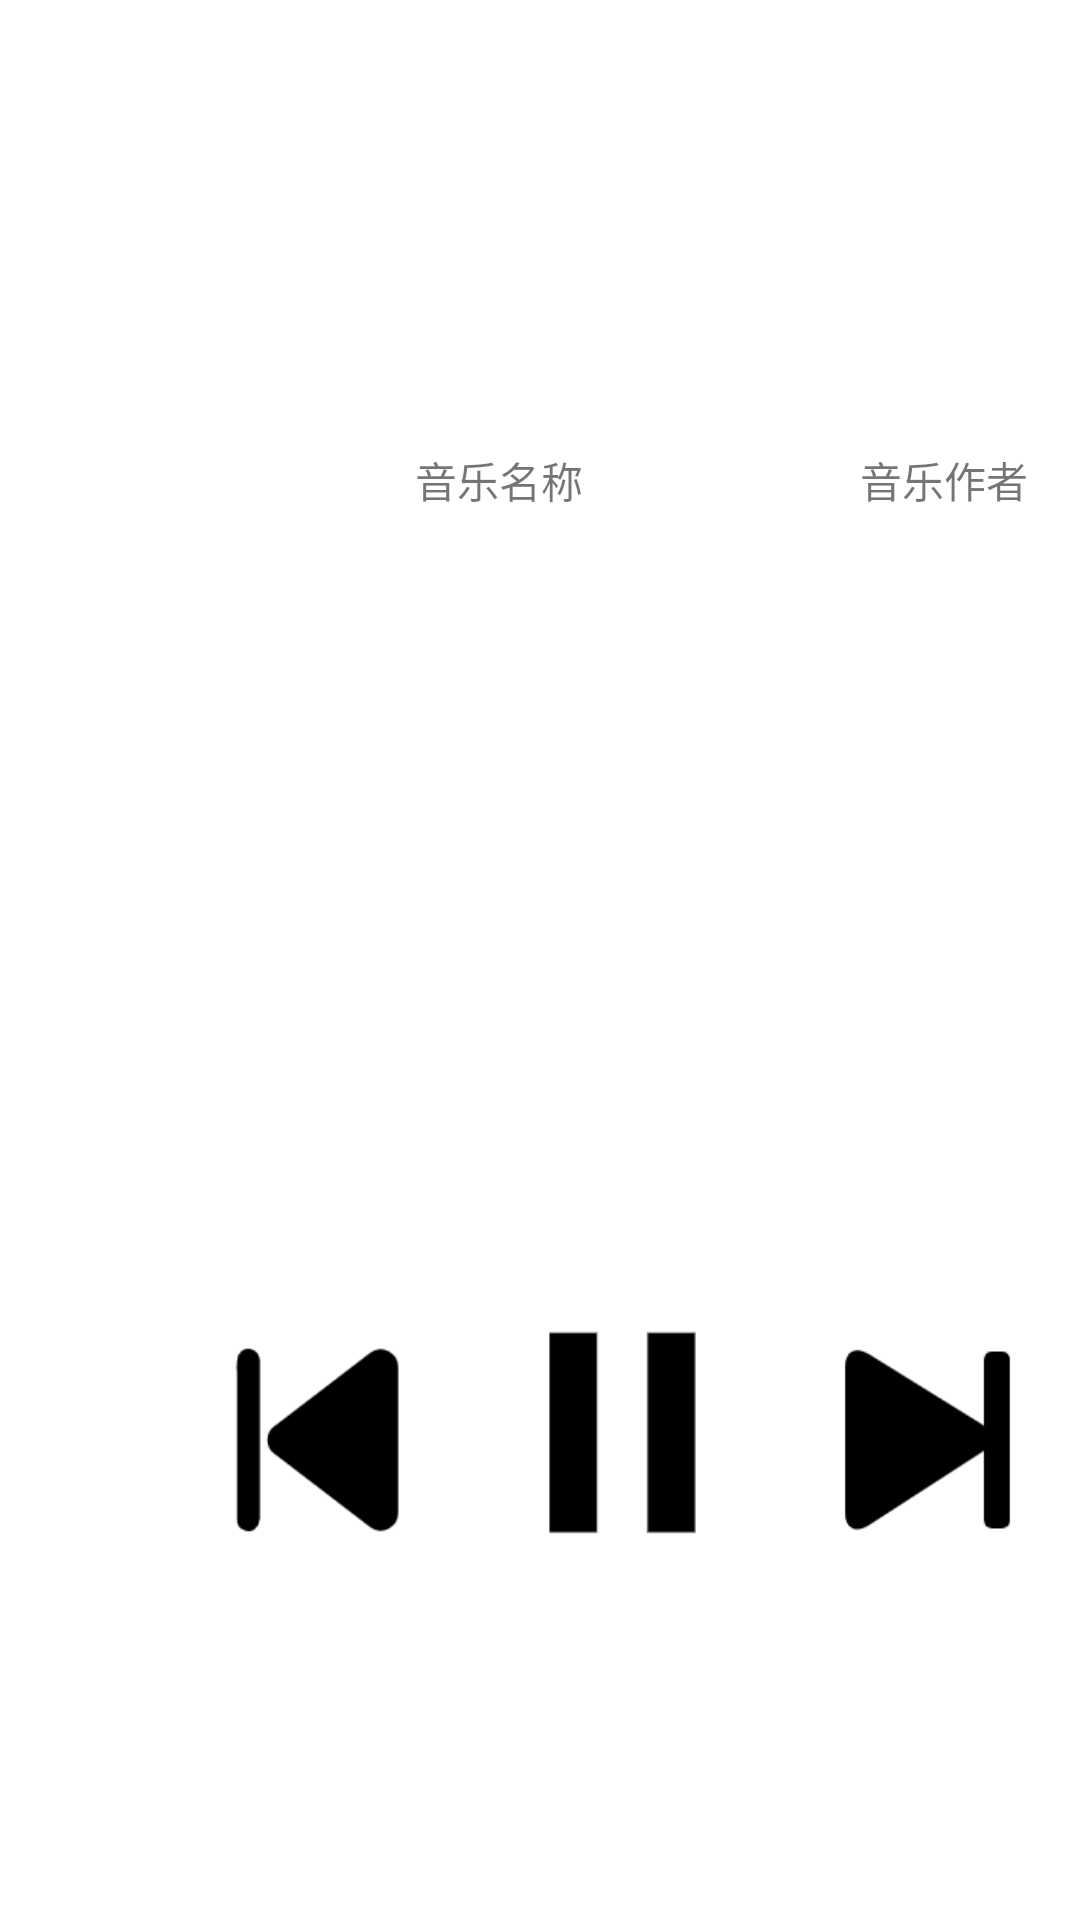

Named icons in this screenshot (1080×1920) and their centers, point (x, y):
last song: point (317, 1440)
next song: point (927, 1439)
pause noti: point (622, 1432)
